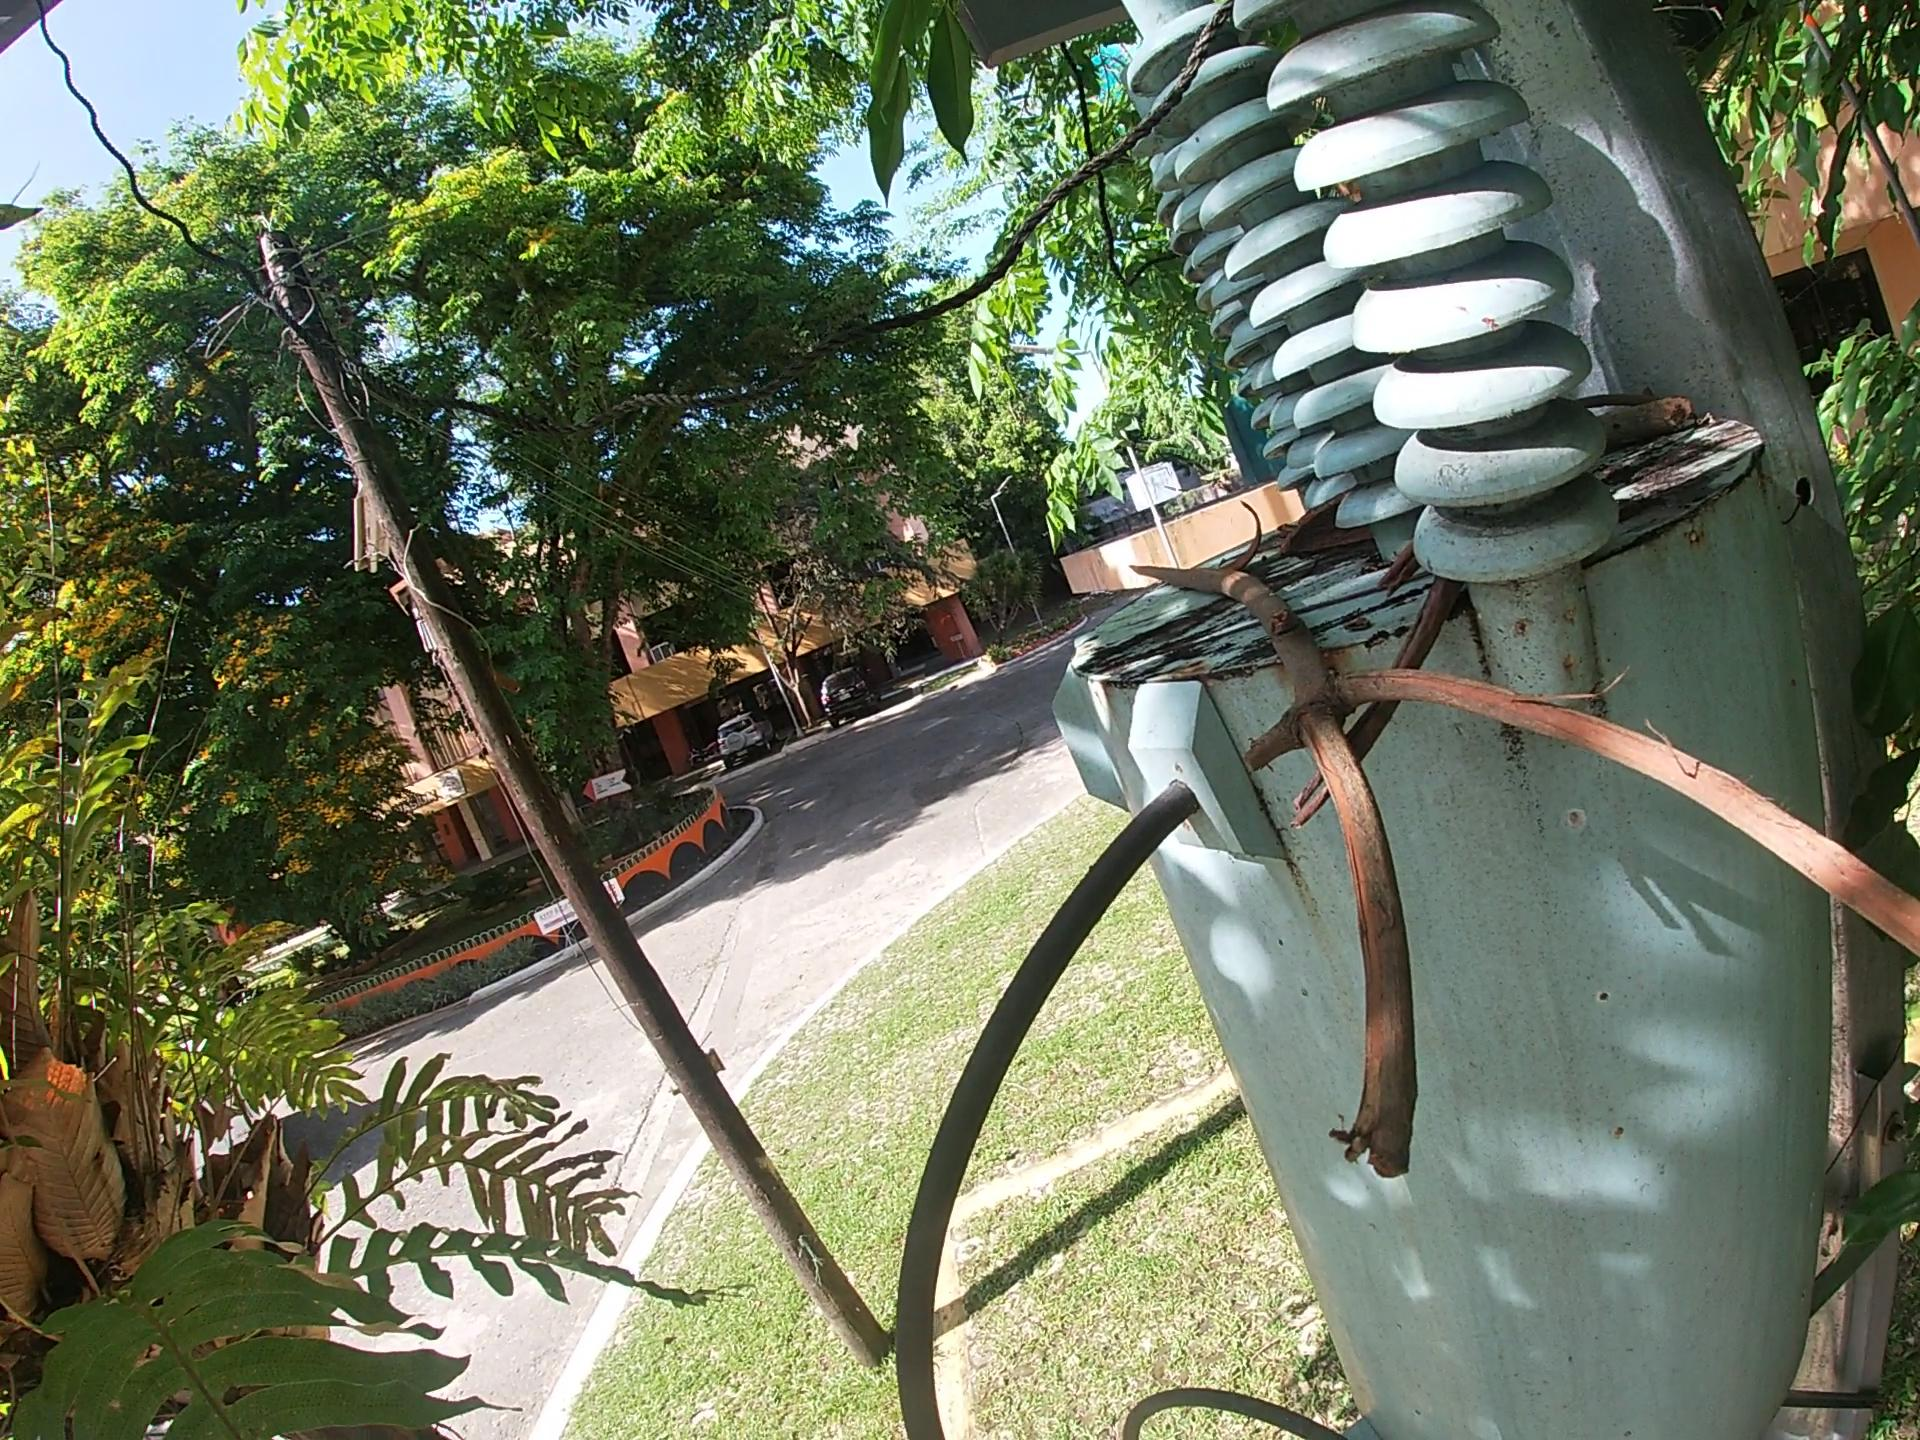mahogany fruit: (1291, 504, 1362, 578), (1228, 498, 1268, 578)
tree branch: (1126, 554, 1918, 1246), (1306, 588, 1460, 833), (1606, 384, 1723, 448), (1352, 557, 1406, 613), (1572, 389, 1654, 414)
